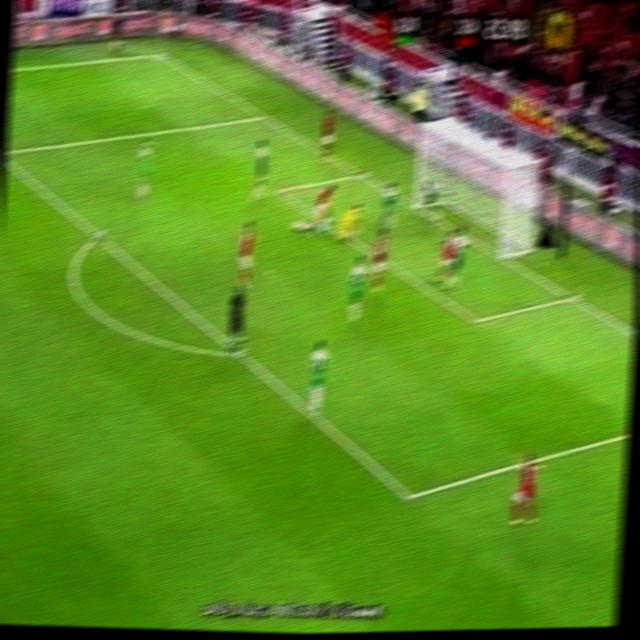bigarea_bottom_inner: (396, 480, 423, 514)
bigarea_top_inner: (4, 148, 11, 162)
bigarea_top_outter: (257, 107, 271, 123)
bottom_arc_area_intersection: (231, 345, 246, 364)
corner: (151, 50, 168, 59)
smallarea_bottom_inner: (464, 305, 487, 333)
smallarea_bottom_outter: (562, 286, 583, 307)
smallarea_top_inner: (271, 181, 288, 197)
smallarea_top_outter: (353, 164, 371, 184)
top_arc_area_intersection: (91, 227, 107, 244)
